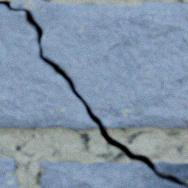brick: (0, 158, 18, 187)
broken_brick: (12, 0, 187, 128), (0, 5, 96, 129), (40, 161, 185, 187), (154, 162, 187, 185)
crack: (0, 0, 187, 187)
